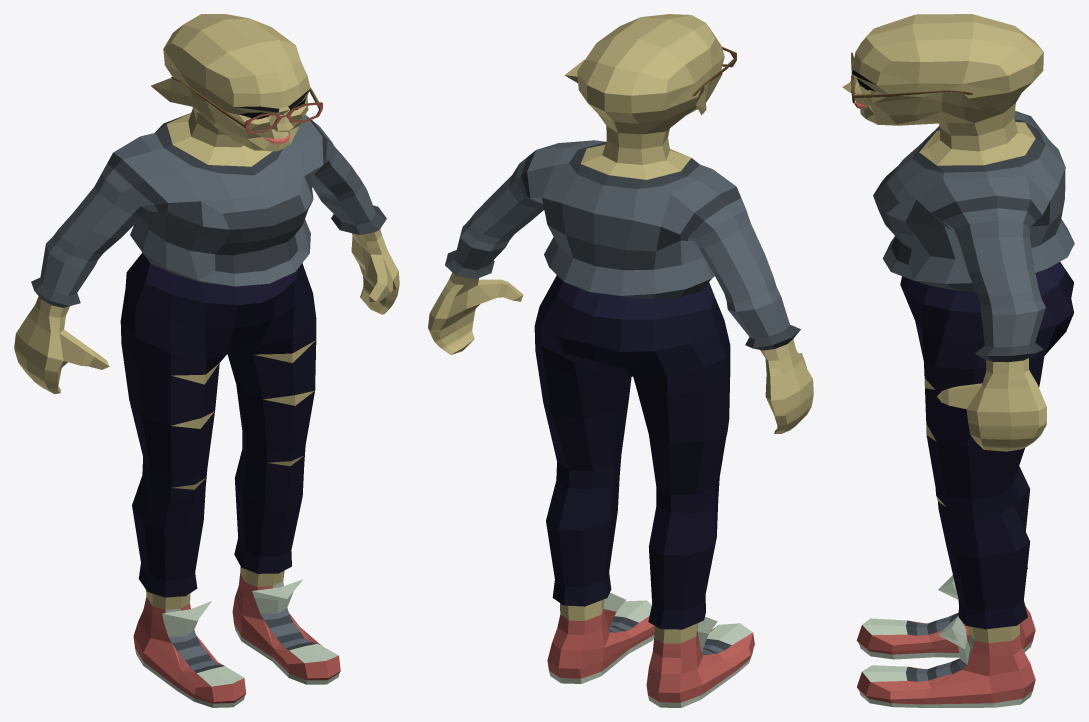
File: punkgirl.gltf
The picture shows the model from 3 angles, left to right: view 1: azimuth 30°, elevation 25°; view 2: azimuth 150°, elevation 25°; view 3: azimuth 270°, elevation 25°; orthographic projection. The views are drawn at different scales.
Visible parts, largest first — view 1: Body; view 2: Body; view 3: Body.
Part boxes in pixels (left/top/right/bottom): Body: left=14, top=14, right=399, bottom=707; Body: left=428, top=14, right=813, bottom=707; Body: left=842, top=14, right=1074, bottom=707.
Size of the model in its own units: 1.62 by 2.73 by 0.8854.
